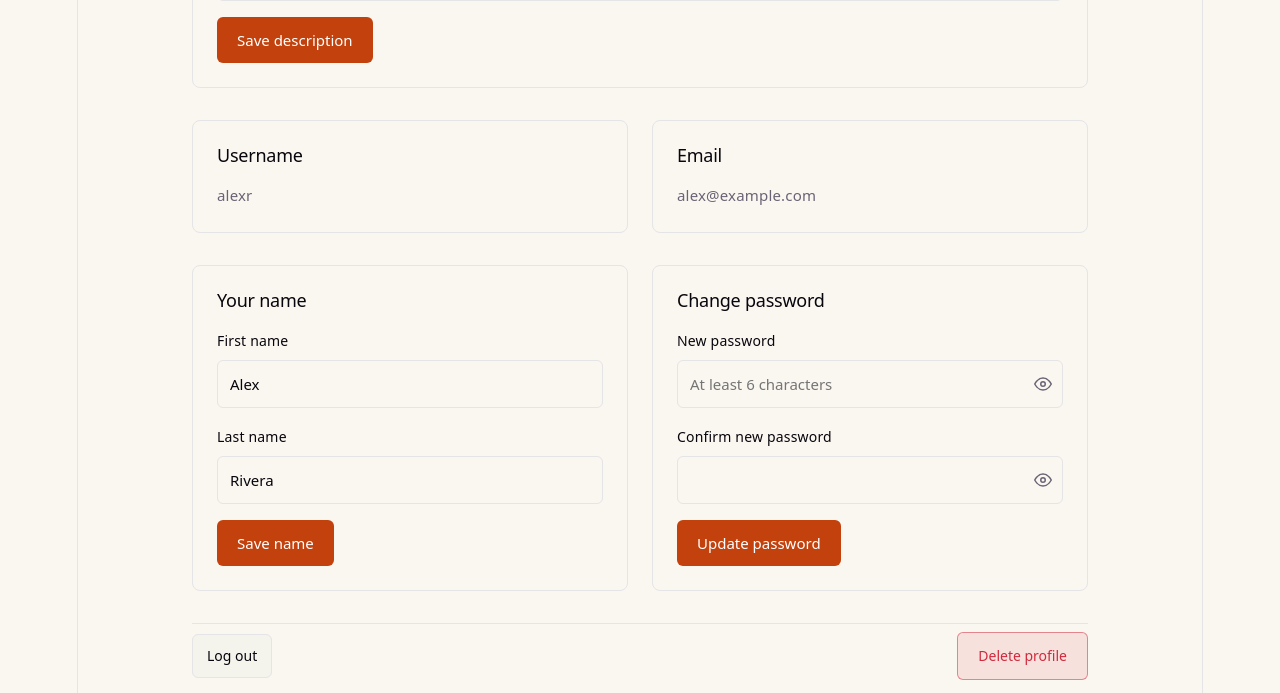
Test: Profile › flags mismatched password confirmation
(page scrolled)
Step 1. Type "password123" into the password field labelled "New password" → [870, 384], box 677,360 -> 1063,408
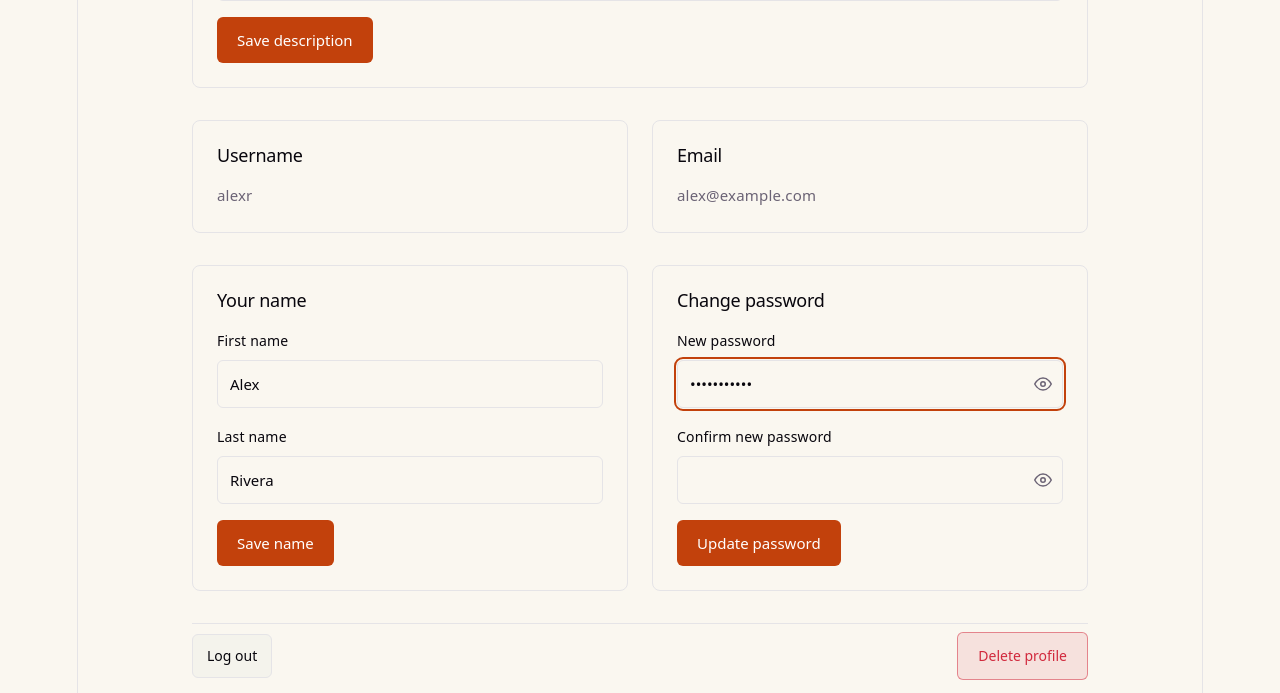
Step 2. Type "different123" into the password field labelled "Confirm new password" → [870, 480], box 677,456 -> 1063,504
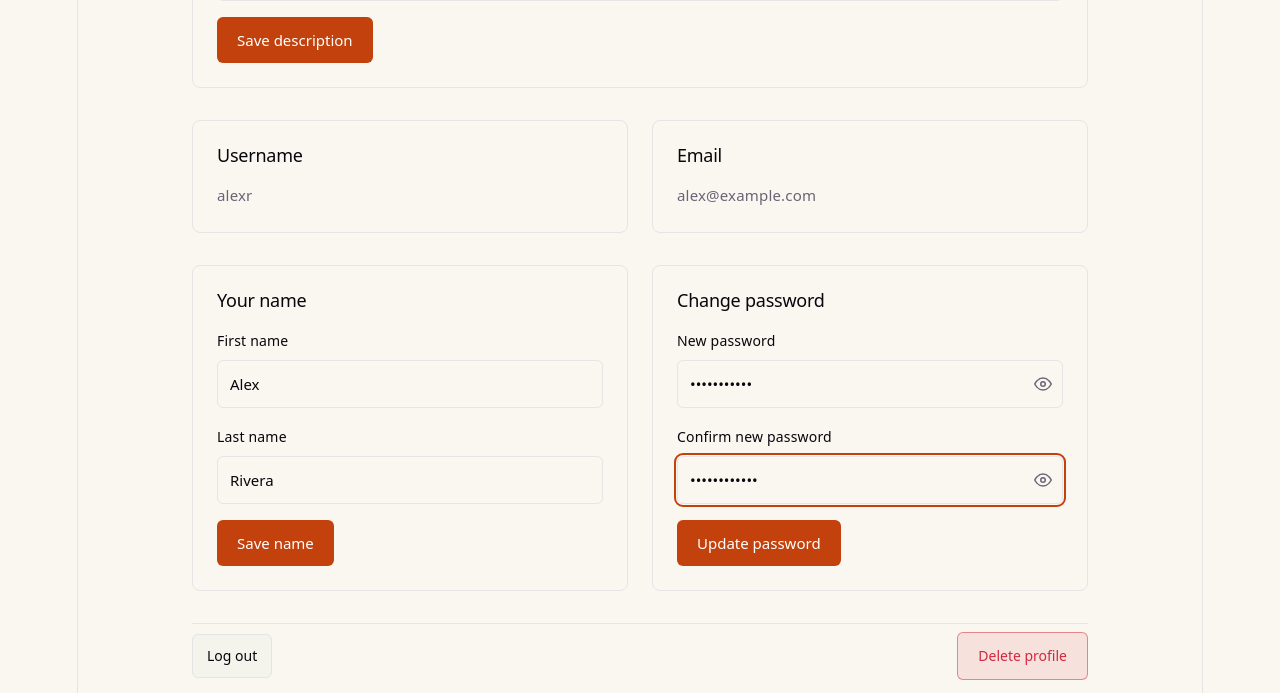
Step 3. Click the button "Update password" → [759, 543], box 677,520 -> 841,566
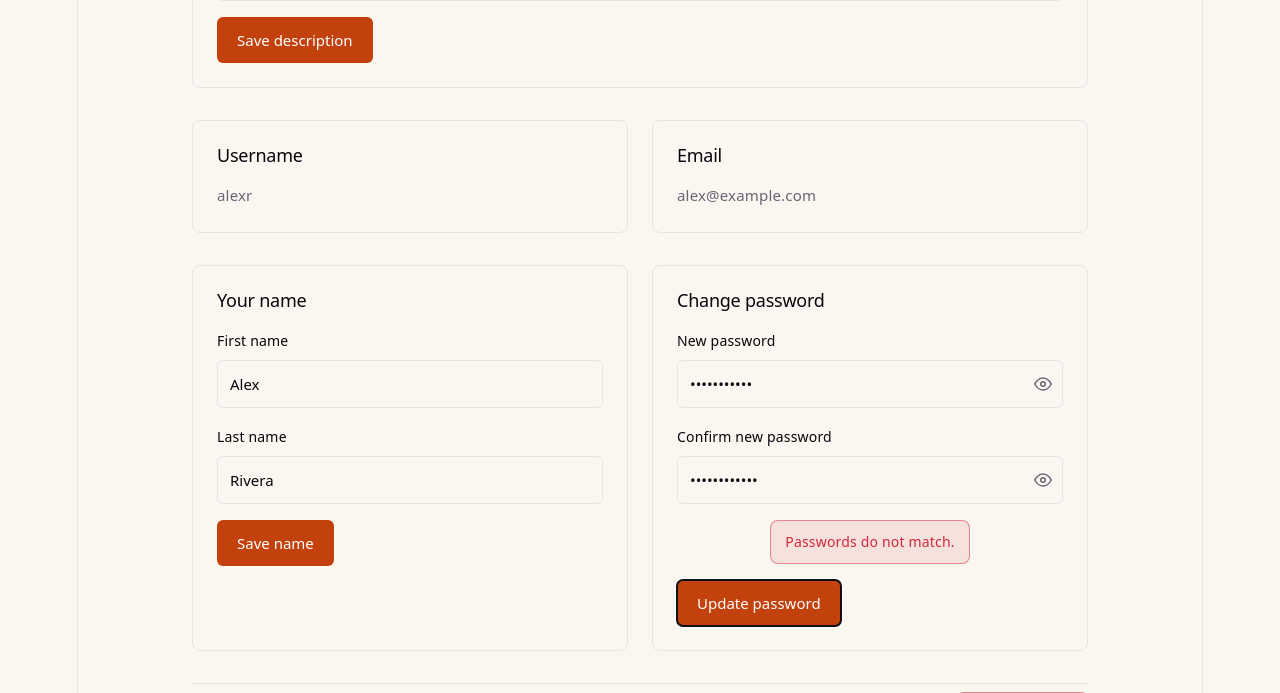
Expected: the text "Passwords do not match." is shown, 770,520 -> 970,564
